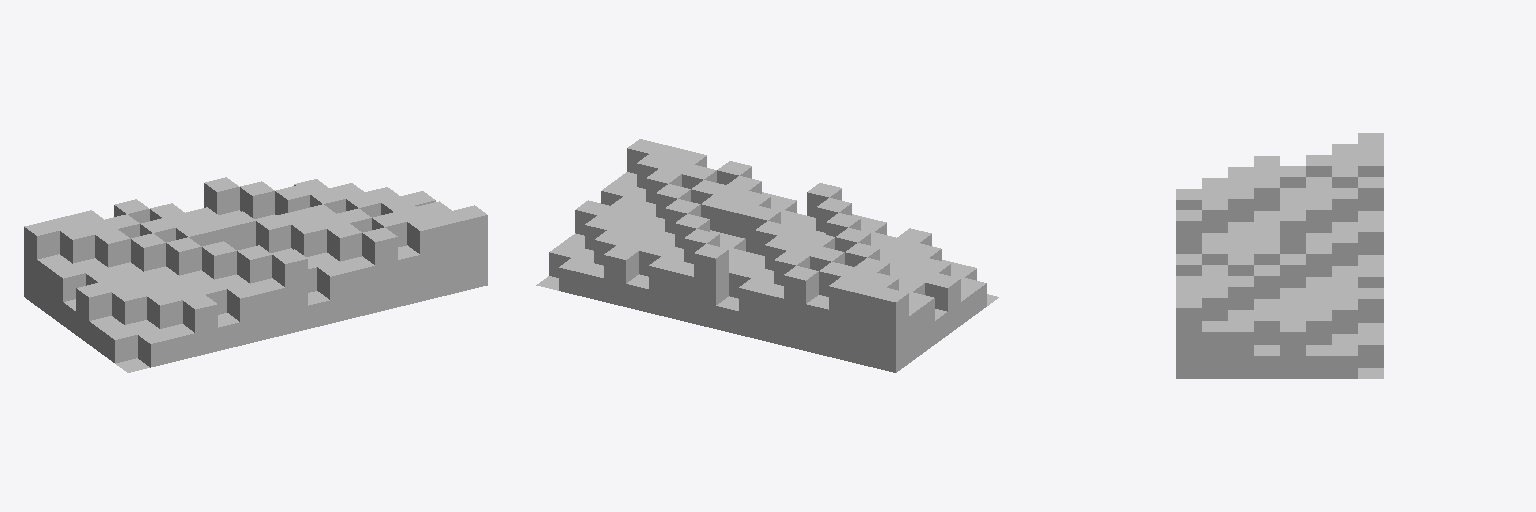
3 renders of one model, left to right at view 1: azimuth 30°, elevation 25°; view 2: azimuth 150°, elevation 25°; view 3: azimuth 270°, elevation 25°, orthographic.
Visible parts, largest first — view 1: Object(8,8)[length_3], Object(12,8)[length_3], Object(14,8)[length_3], Object(16,8)[length_3], Object(15,8)[length_3], Object(1,1)[length_3], Object(6,8)[length_2], Object(10,8)[length_2], Object(4,8)[length_2], Object(1,5)[length_2], Object(1,3)[length_2], Object(11,8)[length_2] (+28 smaller); view 2: Object(1,1)[length_3], Object(9,1)[length_3], Object(5,1)[length_3], Object(2,1)[length_3], Object(3,1)[length_3], Object(13,1)[length_2], Object(1,5)[length_2], Object(11,1)[length_2], Object(7,1)[length_2], Object(4,1)[length_2], Object(6,1)[length_2], Object(10,1)[length_2] (+28 smaller); view 3: Object(16,8)[length_3], Object(16,4)[length_2], Object(16,6)[length_2], Object(16,7)[length_2], Object(8,4)[length_3], Object(8,8)[length_3], Object(13,1)[length_2], Object(14,2)[length_2], Object(15,3)[length_2], Object(15,5)[length_2], Object(5,1)[length_3], Object(5,5)[length_3] (+25 smaller).
Part boxes in pixels (left/top/right/bottom): Object(8,8)[length_3]: left=272, top=249, right=307, bottom=334; Object(12,8)[length_3]: left=362, top=227, right=397, bottom=312; Object(14,8)[length_3]: left=407, top=216, right=442, bottom=301; Object(16,8)[length_3]: left=453, top=205, right=487, bottom=290; Object(15,8)[length_3]: left=430, top=211, right=464, bottom=295; Object(1,1)[length_3]: left=24, top=221, right=59, bottom=305; Object(6,8)[length_2]: left=227, top=284, right=262, bottom=345; Object(10,8)[length_2]: left=317, top=262, right=352, bottom=323; Object(4,8)[length_2]: left=183, top=295, right=217, bottom=356; Object(1,5)[length_2]: left=76, top=283, right=111, bottom=343; Object(1,3)[length_2]: left=50, top=264, right=85, bottom=324; Object(11,8)[length_2]: left=341, top=256, right=374, bottom=317; Object(1,1)[length_3]: left=873, top=288, right=908, bottom=372; Object(9,1)[length_3]: left=694, top=244, right=728, bottom=328; Object(5,1)[length_3]: left=784, top=266, right=818, bottom=350; Object(2,1)[length_3]: left=851, top=282, right=885, bottom=366; Object(3,1)[length_3]: left=829, top=277, right=862, bottom=361; Object(13,1)[length_2]: left=604, top=245, right=638, bottom=306; Object(1,5)[length_2]: left=925, top=273, right=960, bottom=334; Object(11,1)[length_2]: left=649, top=256, right=682, bottom=317; Object(7,1)[length_2]: left=739, top=278, right=772, bottom=339; Object(4,1)[length_2]: left=806, top=295, right=828, bottom=356; Object(6,1)[length_2]: left=761, top=284, right=783, bottom=345; Object(10,1)[length_2]: left=671, top=262, right=693, bottom=323; Object(16,8)[length_3]: left=1176, top=298, right=1201, bottom=378; Object(16,4)[length_2]: left=1280, top=321, right=1305, bottom=378; Object(16,6)[length_2]: left=1228, top=321, right=1253, bottom=378; Object(16,7)[length_2]: left=1202, top=321, right=1227, bottom=378; Object(8,4)[length_3]: left=1280, top=210, right=1305, bottom=253; Object(8,8)[length_3]: left=1176, top=210, right=1201, bottom=253; Object(13,1)[length_2]: left=1358, top=288, right=1383, bottom=322; Object(14,2)[length_2]: left=1332, top=299, right=1357, bottom=333; Object(15,3)[length_2]: left=1306, top=310, right=1331, bottom=344; Object(15,5)[length_2]: left=1254, top=310, right=1279, bottom=344; Object(5,1)[length_3]: left=1358, top=177, right=1383, bottom=210; Object(5,5)[length_3]: left=1254, top=177, right=1279, bottom=210.
Size of the model in its own units: 16 by 3 by 8.